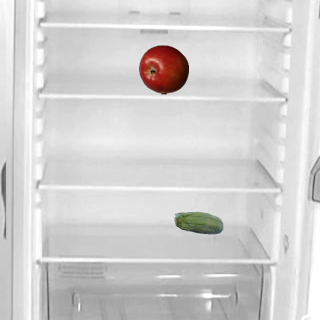Apple Braeburn: (138, 44, 188, 94)
Corn Husk: (173, 199, 223, 249)
